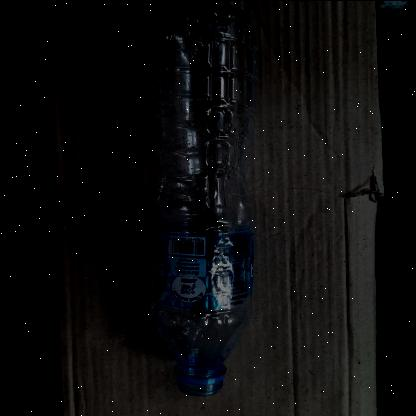Plastic Bottle: (148, 0, 260, 398)
